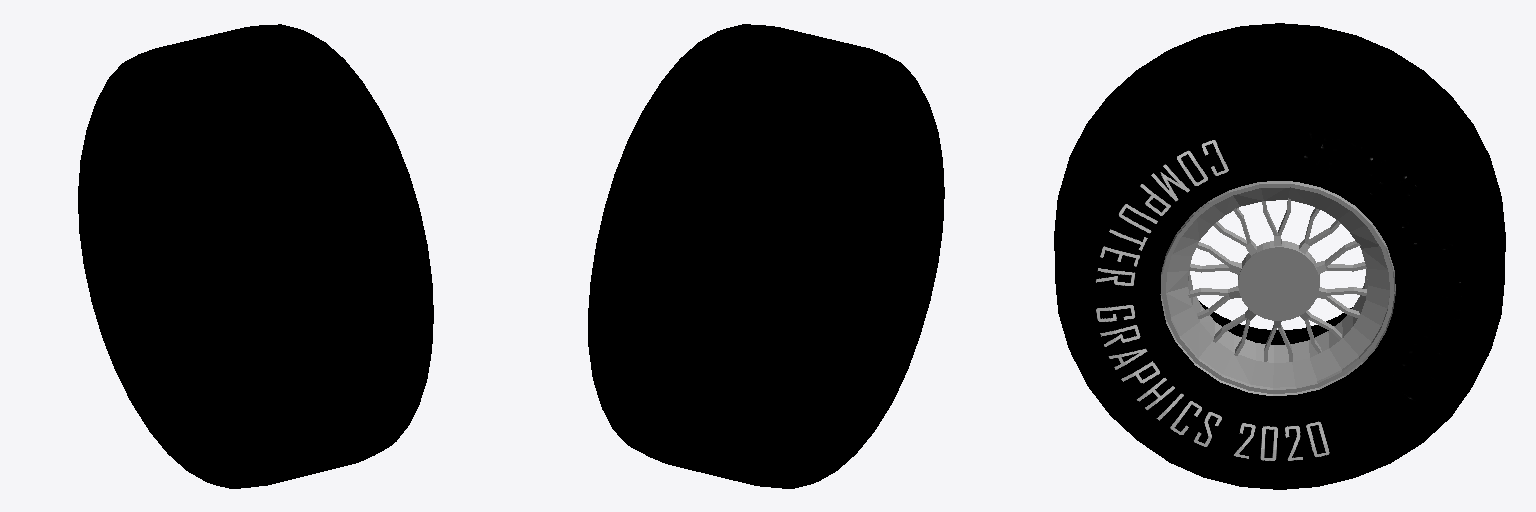
3 views of the same model, side by side, from view 1: azimuth 30°, elevation 25°; view 2: azimuth 150°, elevation 25°; view 3: azimuth 270°, elevation 25° (orthographic).
Parts seen in each view (by area): view 1: Ferrari_wheel_front_R; view 2: Ferrari_wheel_front_R; view 3: Ferrari_wheel_front_R, Ferrari_wheel_front_R_metal.
Part boxes in pixels (x1,y1,x2,y2): Ferrari_wheel_front_R: (78,24,433,488); Ferrari_wheel_front_R: (588,24,944,488); Ferrari_wheel_front_R: (1054,23,1505,489); Ferrari_wheel_front_R_metal: (1160,181,1395,395).
Bounding box in the file's own units: 2.94 × 7.09 × 7.09.
2 materials, 1 textured.